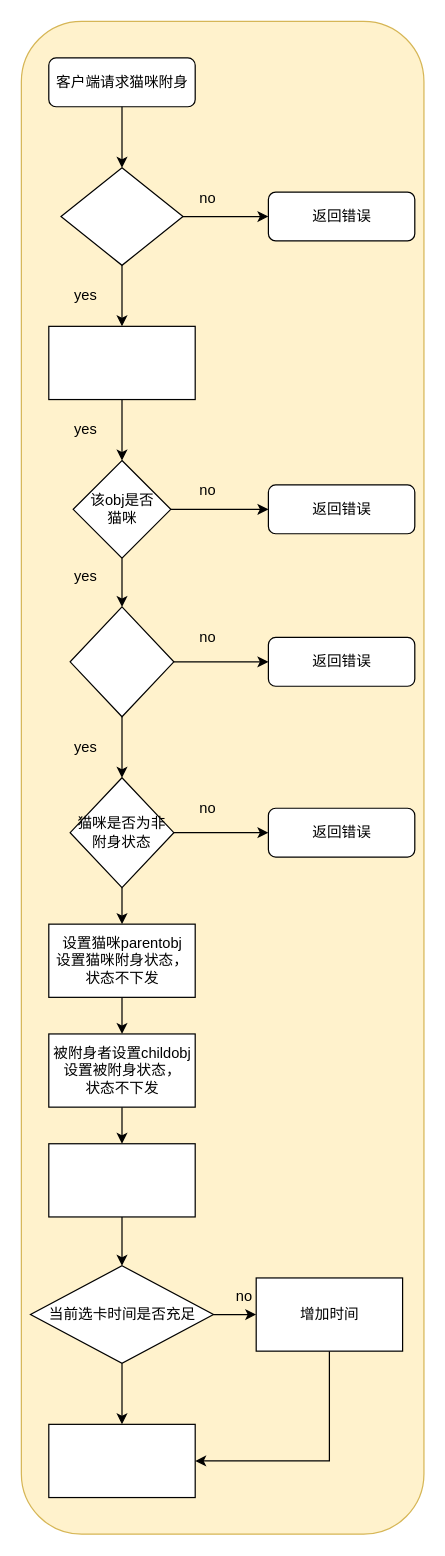
Image size: 445x1556. Some labels were removed from this diagram. The centre of each missing label's shape, as x and y in pixels:
"当前是否选 技能卡阶段" goes at point 121,216.
"猫咪是否为非附身状态且可以被附身" goes at point 121,661.
"获取客户端传来的obj" goes at point 121,362.
"被附身者加猫咪头像buff 被附身者加猫咪增益buff" goes at point 121,1180.
"返回" goes at point 121,1460.
